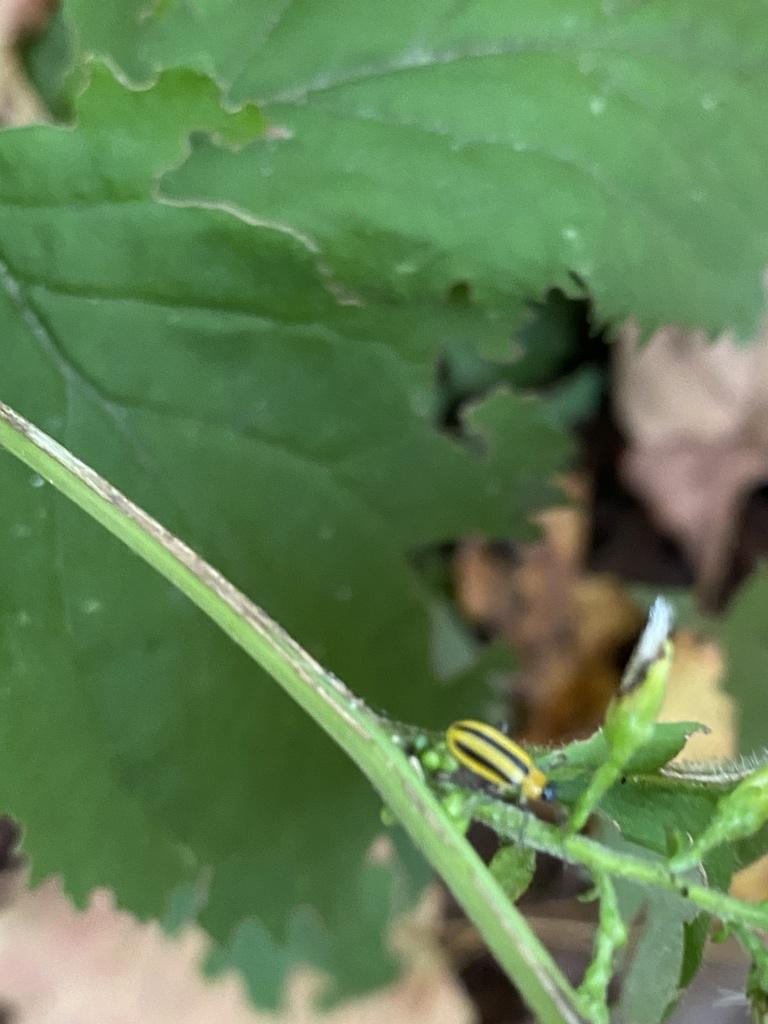potato_beetle: (436, 694, 581, 853)
